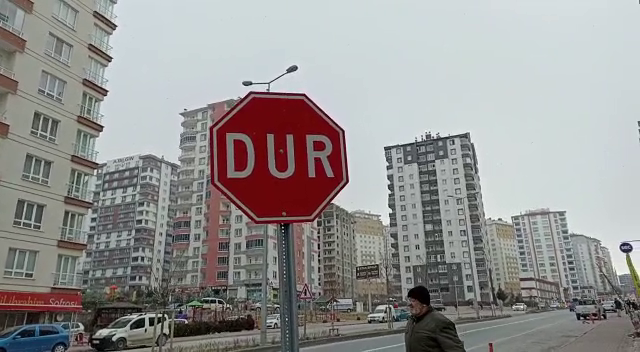stop: (208, 90, 351, 226)
